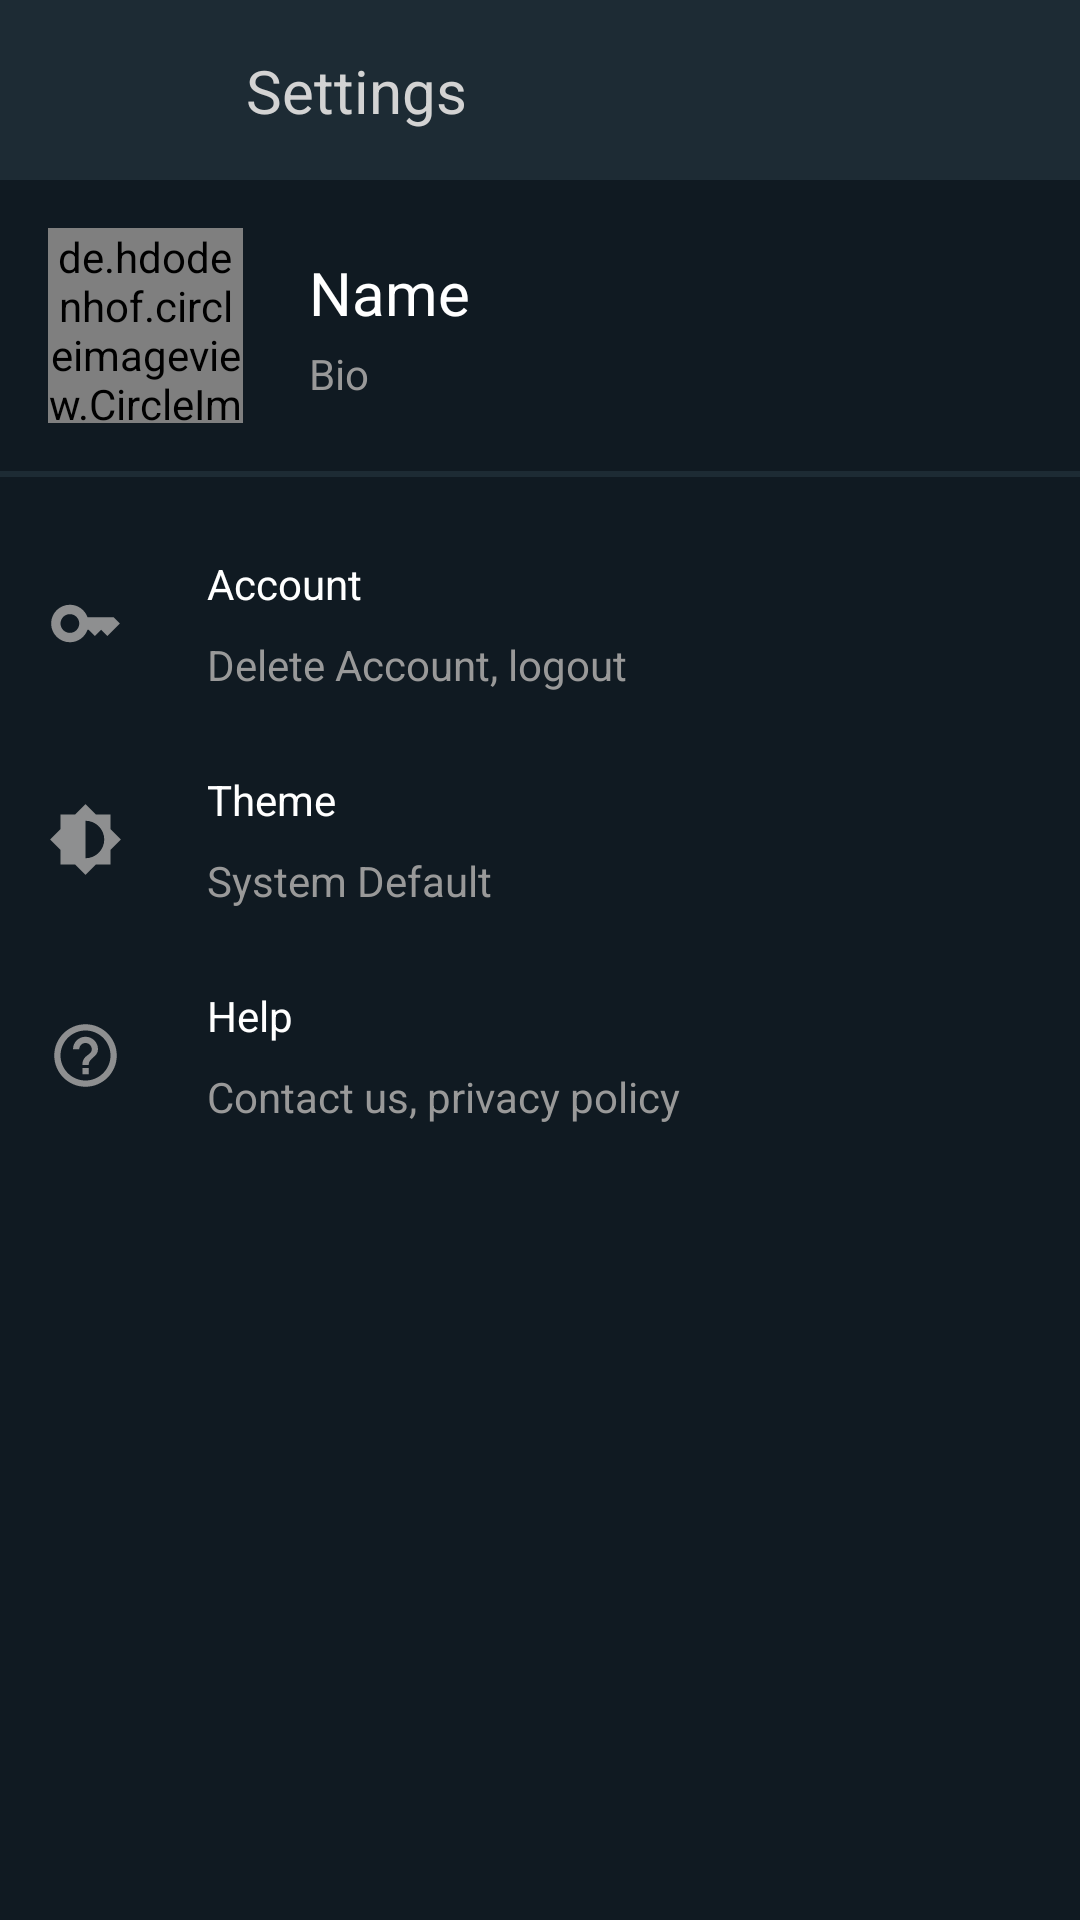

Point at icon controls on the screen. Image size 1080x1920, points as (x,y).
brightness: (85,839)
key: (85,623)
